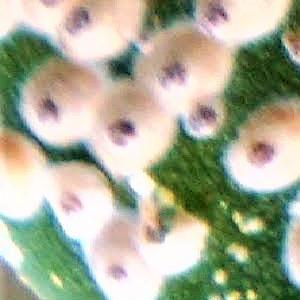Femea: (90, 99, 170, 170), (16, 67, 88, 140), (47, 0, 129, 59), (231, 127, 299, 195), (136, 35, 209, 98), (91, 235, 148, 299), (195, 0, 279, 41), (141, 213, 202, 266), (48, 173, 94, 231), (188, 102, 229, 139)
Linfa: (228, 206, 265, 237), (222, 237, 252, 264)
